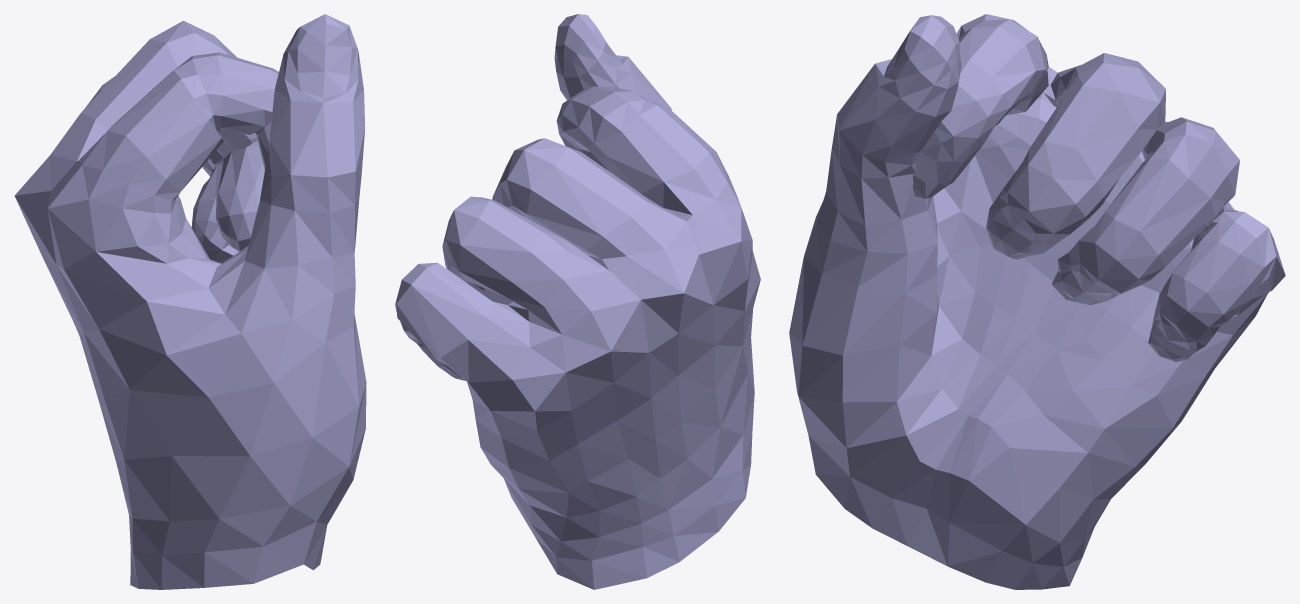
File: frame_0071_source_000071_hand.glb
3 views of the same model, side by side, from view 1: azimuth 30°, elevation 25°; view 2: azimuth 150°, elevation 25°; view 3: azimuth 270°, elevation 25° (orthographic). The views are drawn at different scales.
Visible parts, largest first — view 1: world; view 2: world; view 3: world.
Boxes of the visible parts, x1,y1,x2,y2 form: world: (14,14,366,589); world: (395,14,760,589); world: (789,14,1285,589).
Size of the model in its own units: 0.0658 by 0.1248 by 0.0941.
